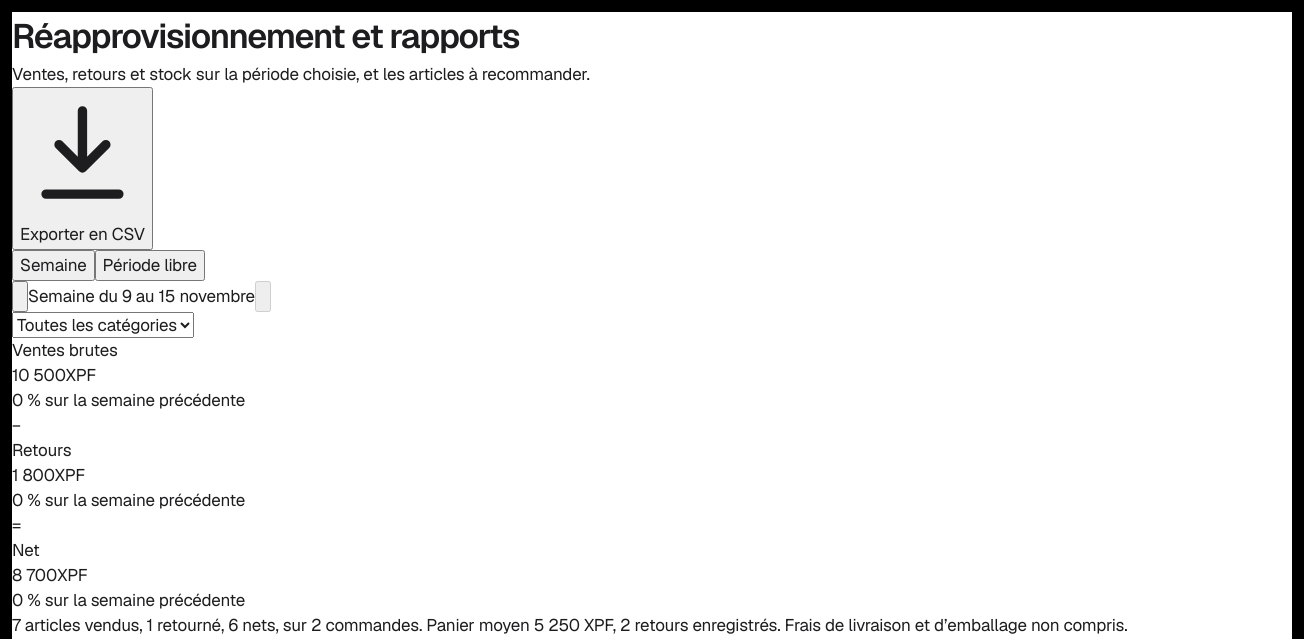
Test: page des rapports › explique un export refusé
This screenshot has width=1304, height=639.
expect the text "Semaine du 9 au 15 novembre" is shown: met, box [28,285,255,307]
Step 1. Click the button "Exporter en CSV" → (82, 168), box [12,87,153,250]
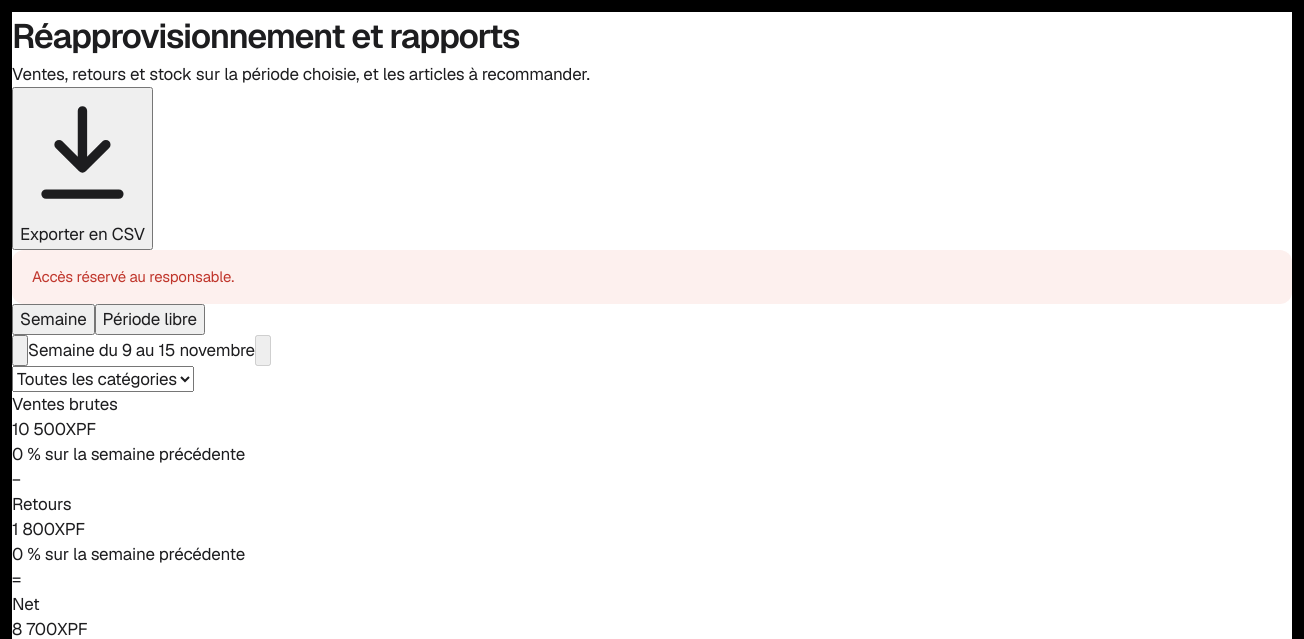
expect the message reads "Accès réservé au responsable.": met, box [32,267,234,286]
